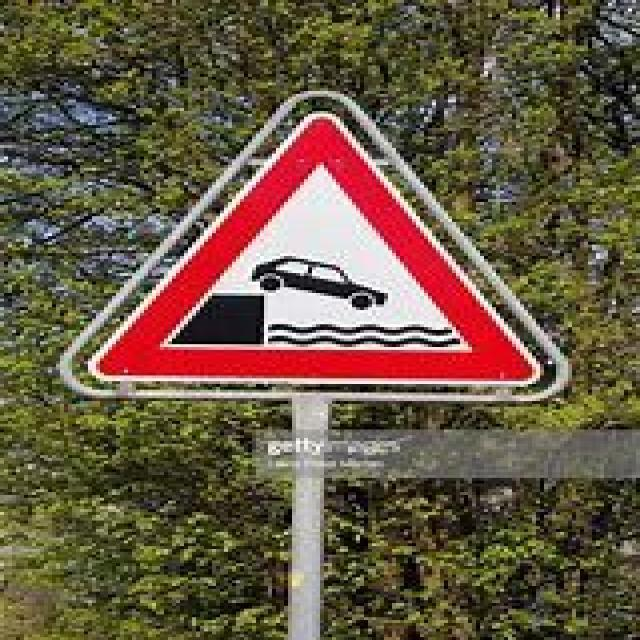quay side or river bank: (82, 107, 533, 386)
